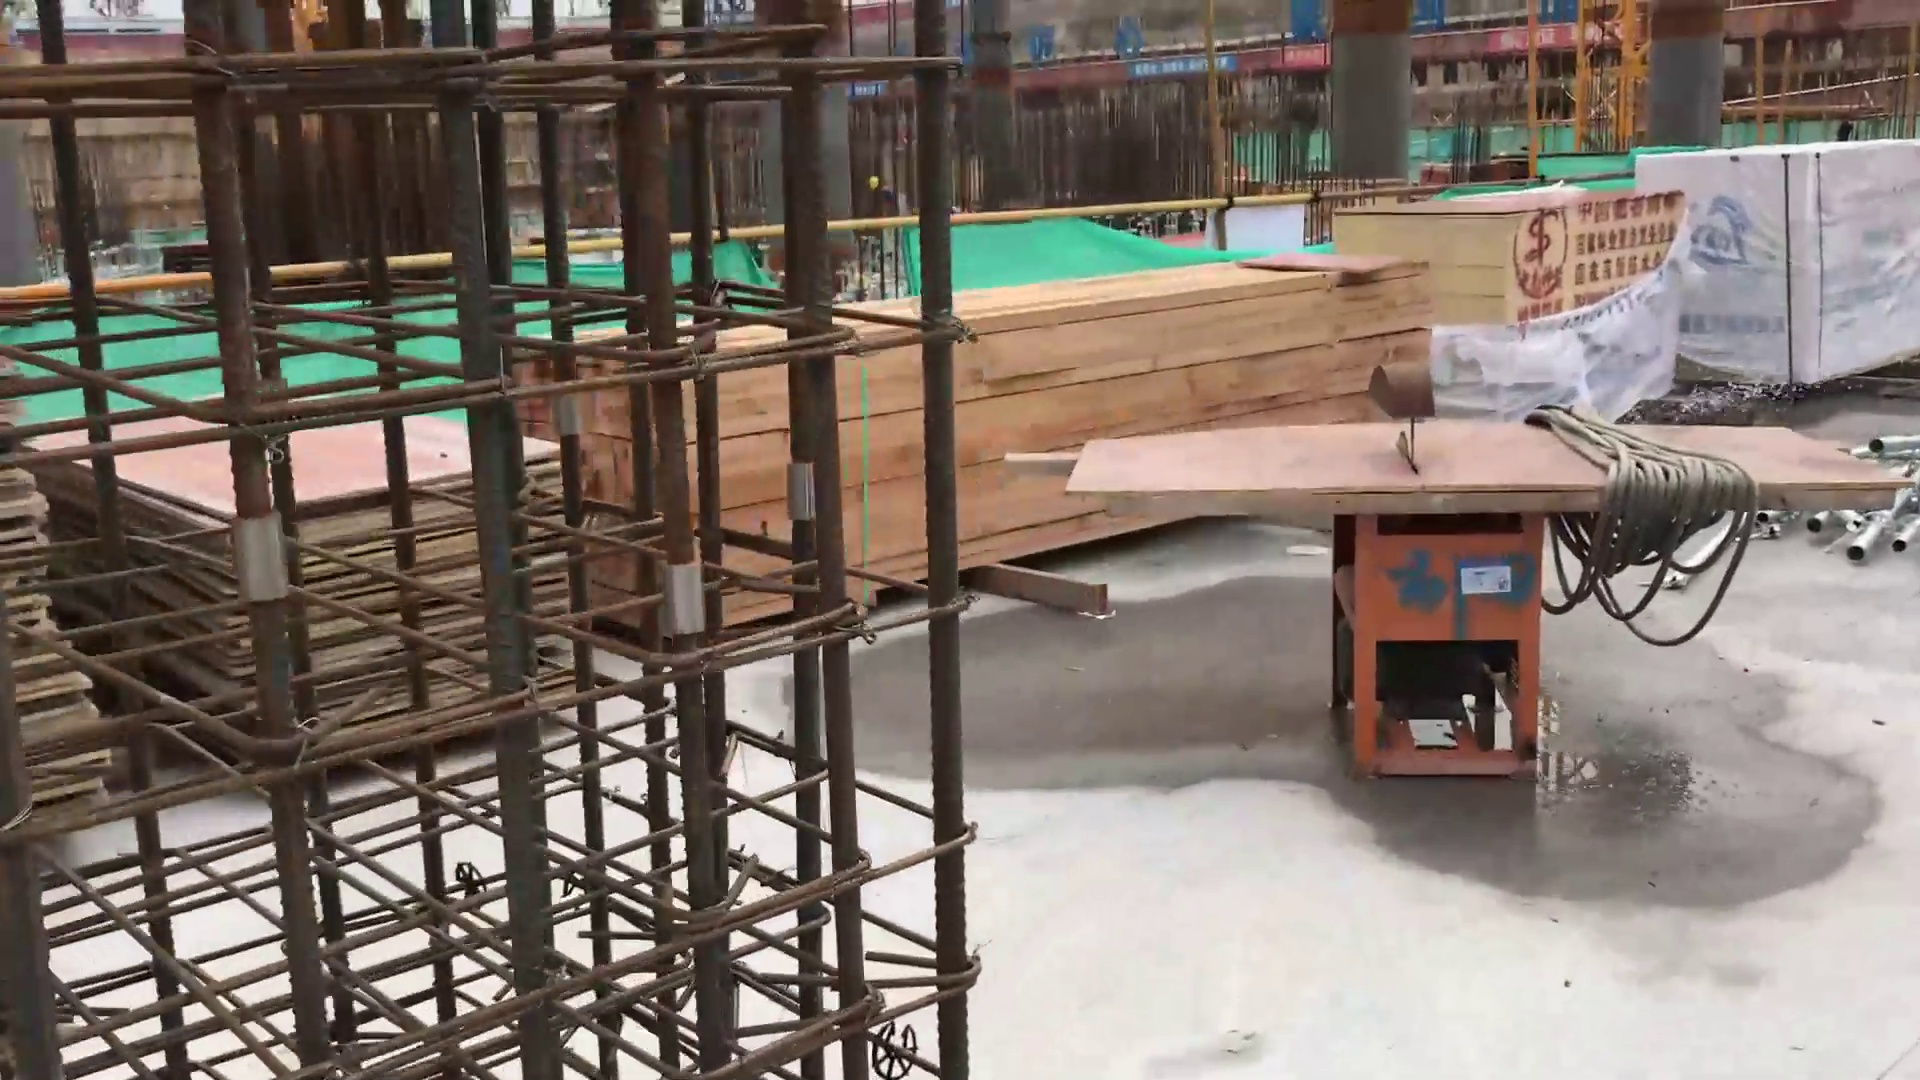board: (1, 329, 586, 756)
cutter: (1054, 346, 1889, 547)
helmet: (864, 174, 879, 191)
person: (870, 174, 899, 211)
vest: (883, 178, 904, 211)
wood: (513, 254, 1429, 622)
